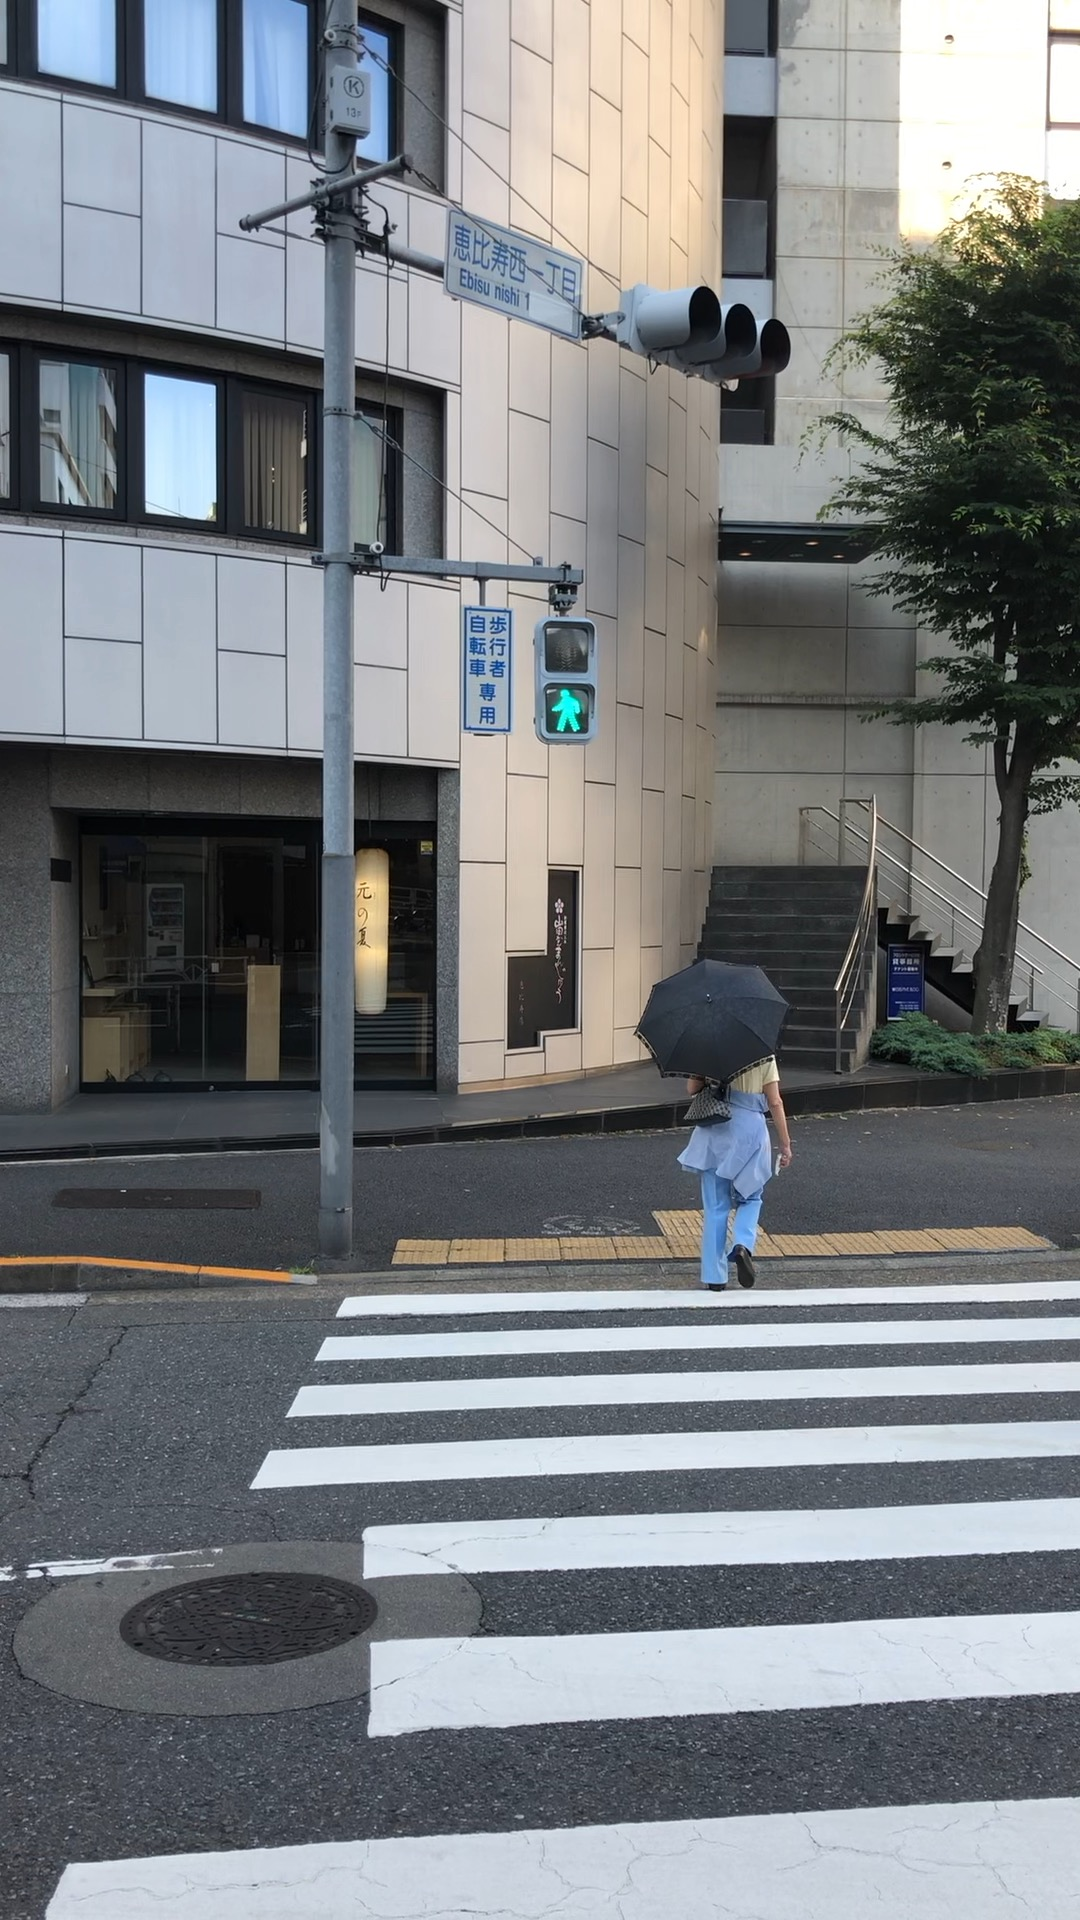green: (531, 617, 595, 745)
